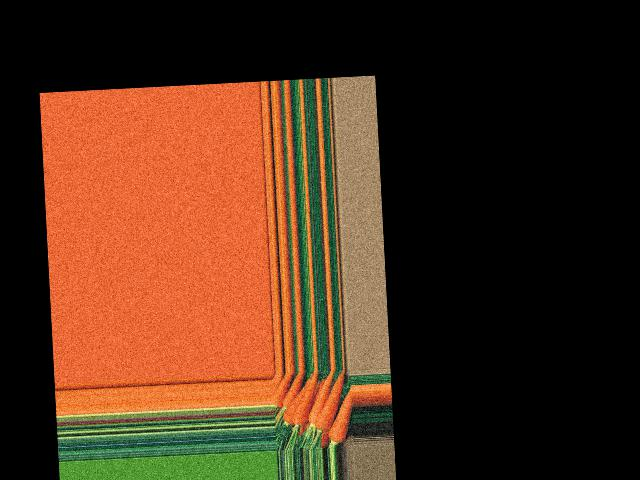carrot: (278, 373, 303, 412)
